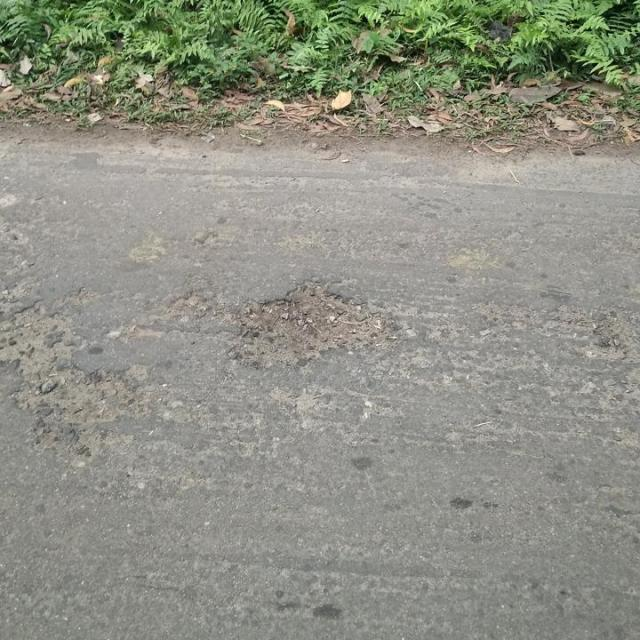Pothole: (232, 281, 403, 371), (11, 367, 145, 437), (1, 305, 69, 363)
